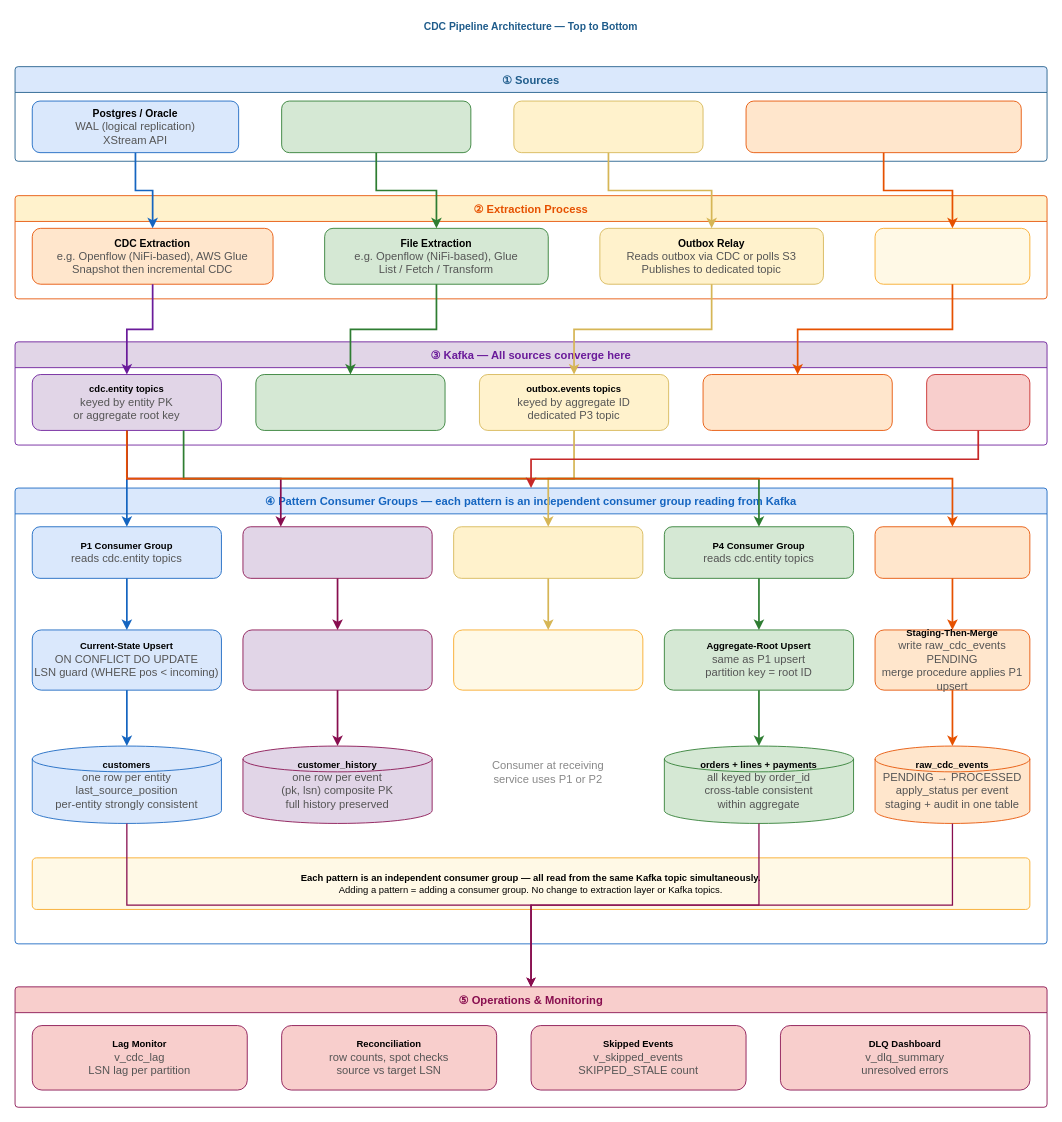
Some shapes in this 1062 by 1122 pixel diagram are drawn without their labels. Here are the shapes that lost their labels. From the top down, the centre of each, then its label:
At [376,126]: "Files S3, SFTP, local storage".
At [608,126]: "Outbox (P3) DB table or S3 app writes atomically".
At [883,126]: "Events & APIs Kafka producers, webhooks streaming services".
At [952,255]: "Events & APIs — No extraction needed Producers publish directly to Kafka topics".
At [350,402]: "file.events topics keyed by file ID or batch key".
At [797,402]: "app.events topics keyed by entity ID or event type".
At [978,402]: "Dead Letter Queue failed / poison msgs".
At [337,552]: "P2 Consumer Group reads cdc.entity topics".
At [548,552]: "P3 — Transactional Outbox reads outbox.events topics".
At [952,552]: "P5 Consumer Group reads cdc.entity topics".
At [337,659]: "Append-Only Log INSERT (pk, source_position) ON CONFLICT DO NOTHING".
At [548,659]: "Producer-Side Pattern P3 sits on the source side. Consumer uses P1 or P2.".
